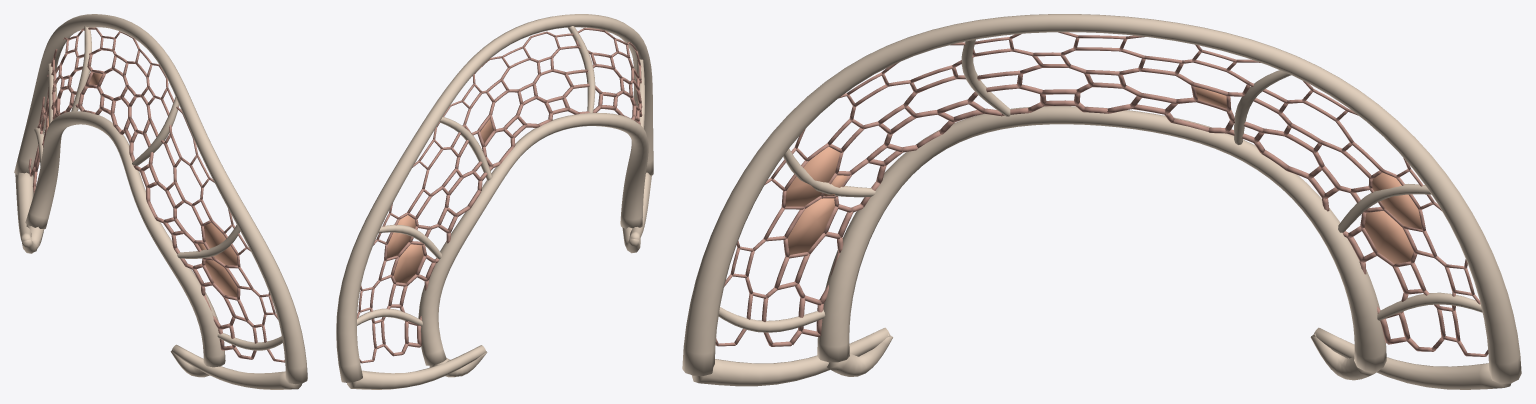
The model's file is cellular_gate.glb.
3 views of the same model, side by side, from view 1: azimuth 30°, elevation 25°; view 2: azimuth 150°, elevation 25°; view 3: azimuth 270°, elevation 25° (orthographic). The views are drawn at different scales.
Visible parts, largest first — view 1: Ivory_Ribs, Peach_Web, Thin_Membrane; view 2: Ivory_Ribs, Peach_Web, Thin_Membrane; view 3: Ivory_Ribs, Peach_Web, Thin_Membrane.
Part boxes in pixels (x1,y1,x2,y2): Ivory_Ribs: [14, 14, 307, 389]; Peach_Web: [28, 27, 284, 362]; Thin_Membrane: [47, 73, 237, 297]; Ivory_Ribs: [336, 14, 653, 389]; Peach_Web: [357, 27, 642, 363]; Thin_Membrane: [387, 81, 640, 283]; Ivory_Ribs: [682, 14, 1521, 389]; Peach_Web: [715, 32, 1488, 356]; Thin_Membrane: [785, 87, 1422, 263].
Bounding box in the file's own units: 3.02 × 7.86 × 15.46.
